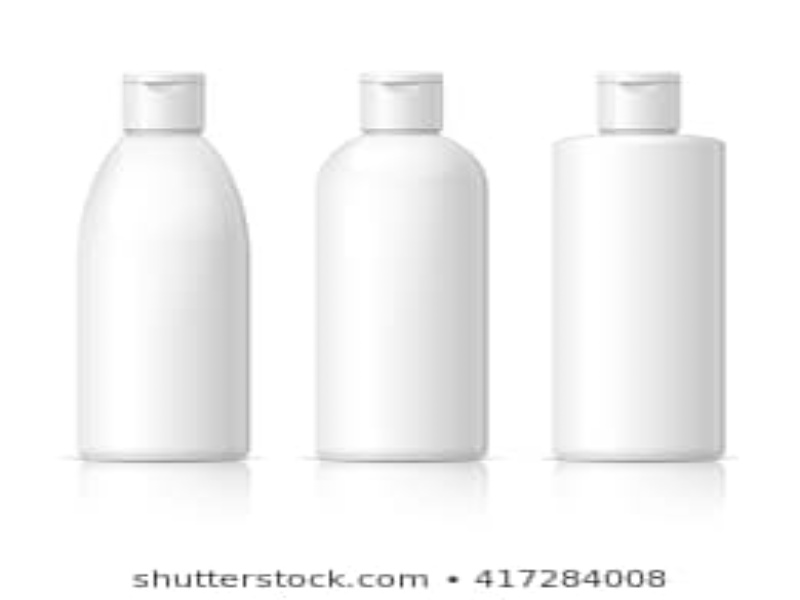shampoo-bottle: (295, 68, 497, 467), (71, 71, 261, 467), (541, 69, 730, 466)
